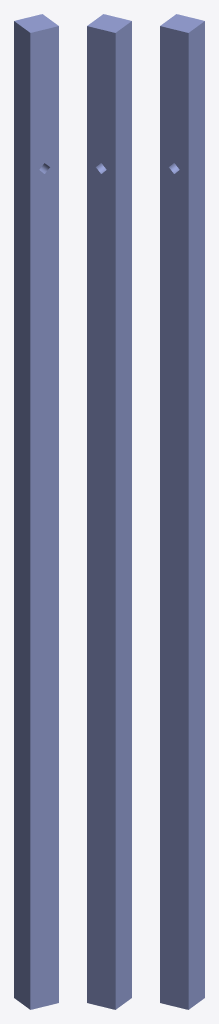
Rendered from Copie de Bati Pied avant gauche^Copie de Bati_Horloge Comtoise Verge - Sonnerie.obj.
3 renders of one model, left to right at view 1: azimuth 30°, elevation 25°; view 2: azimuth 150°, elevation 25°; view 3: azimuth 330°, elevation 25°, orthographic.
Parts seen in each view (by area): view 1: Face_3, Face_6, Face_2; view 2: Face_5, Face_6, Face_2; view 3: Face_3, Face_1, Face_2.
Part boxes in pixels (x1,y1,x2,y2): Face_3: [30, 26, 58, 1009]; Face_6: [14, 21, 30, 1009]; Face_2: [14, 14, 58, 32]; Face_5: [87, 26, 115, 1009]; Face_6: [115, 21, 131, 1009]; Face_2: [87, 14, 131, 32]; Face_3: [160, 26, 188, 1009]; Face_1: [188, 21, 204, 1009]; Face_2: [160, 14, 204, 32].
Size of the model in its own units: 0.0073 by 0.239 by 0.0073.
